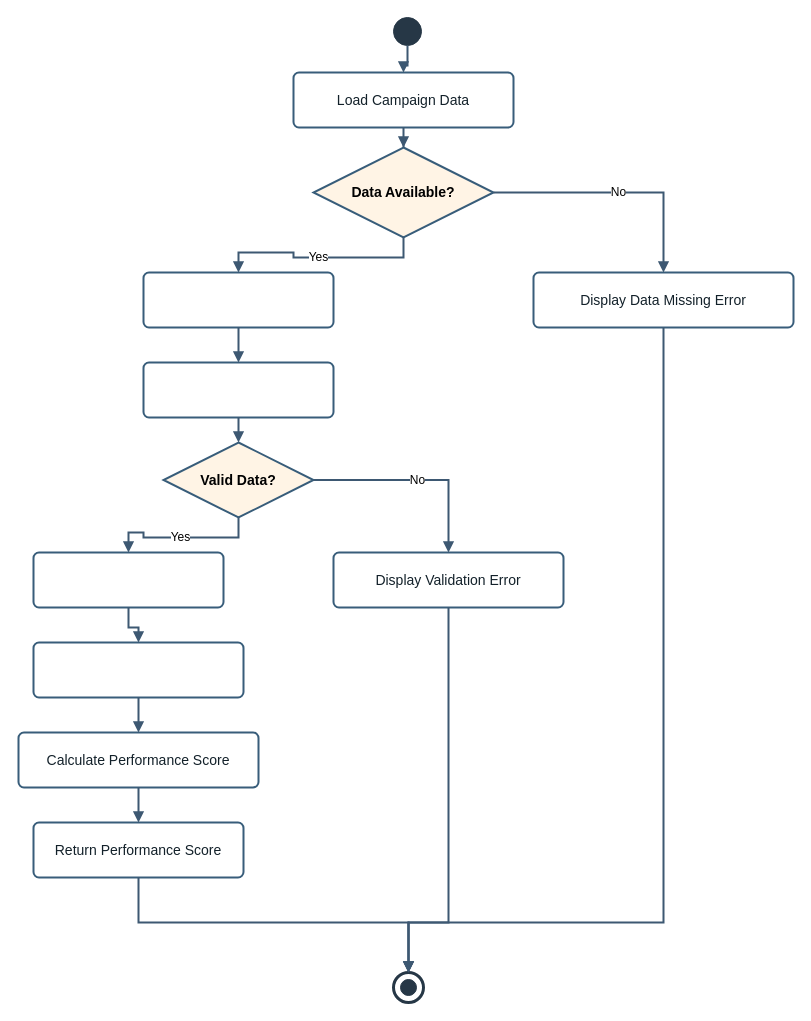
Image size: 811x1021. Some labels were removed from this diagram. Each missing label, with the centre of its shape:
"Apply Predictive Model" belongs at point 138,669.
"Extract Features" belongs at point 128,579.
"Preprocess Data" belongs at point 238,299.
"Validate Data Quality" belongs at point 238,389.
